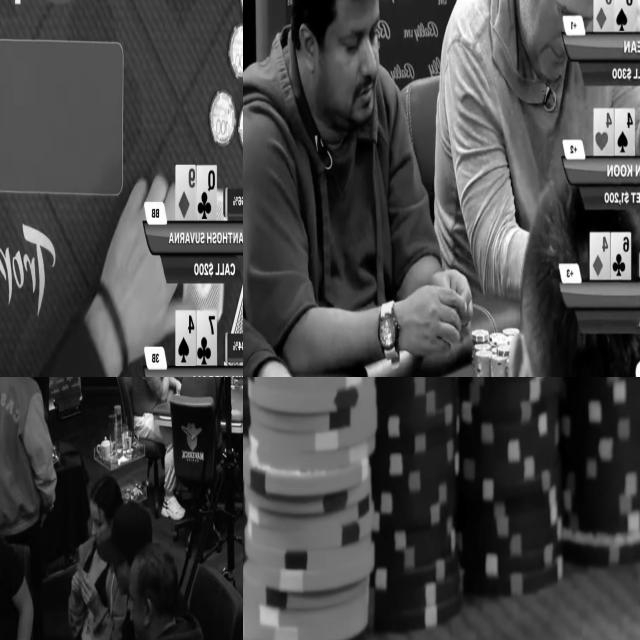4D: (590, 234, 610, 278)
4H: (592, 108, 614, 155)
4S: (176, 311, 195, 366), (614, 110, 636, 154)
6C: (610, 233, 631, 279)
6D: (593, 0, 614, 30)
6S: (614, 0, 635, 31)
7C: (197, 312, 216, 365)
9D: (176, 166, 195, 221)
QC: (197, 166, 216, 219)
